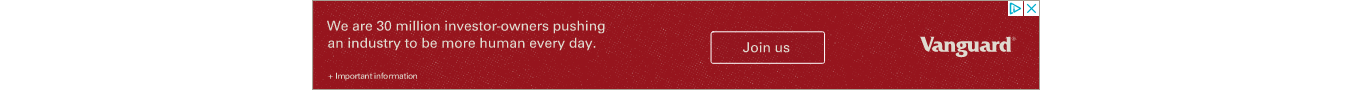fake_button: (699, 25, 840, 70), (996, 2, 1038, 18)
